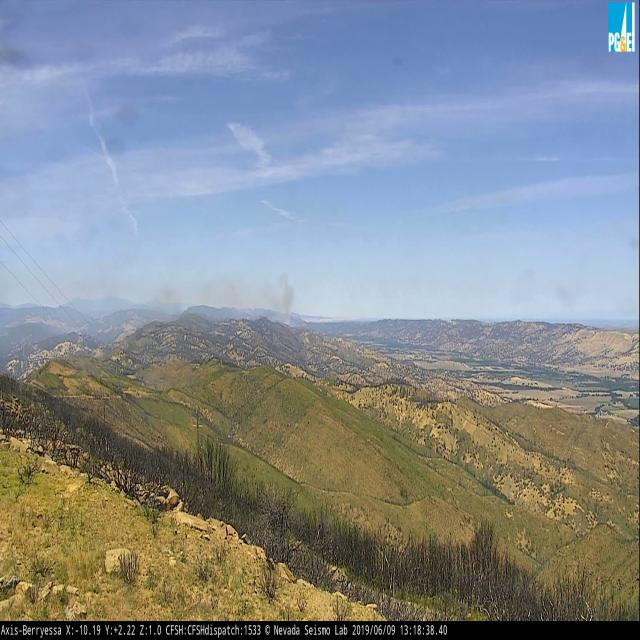smoke: (145, 268, 303, 331)
